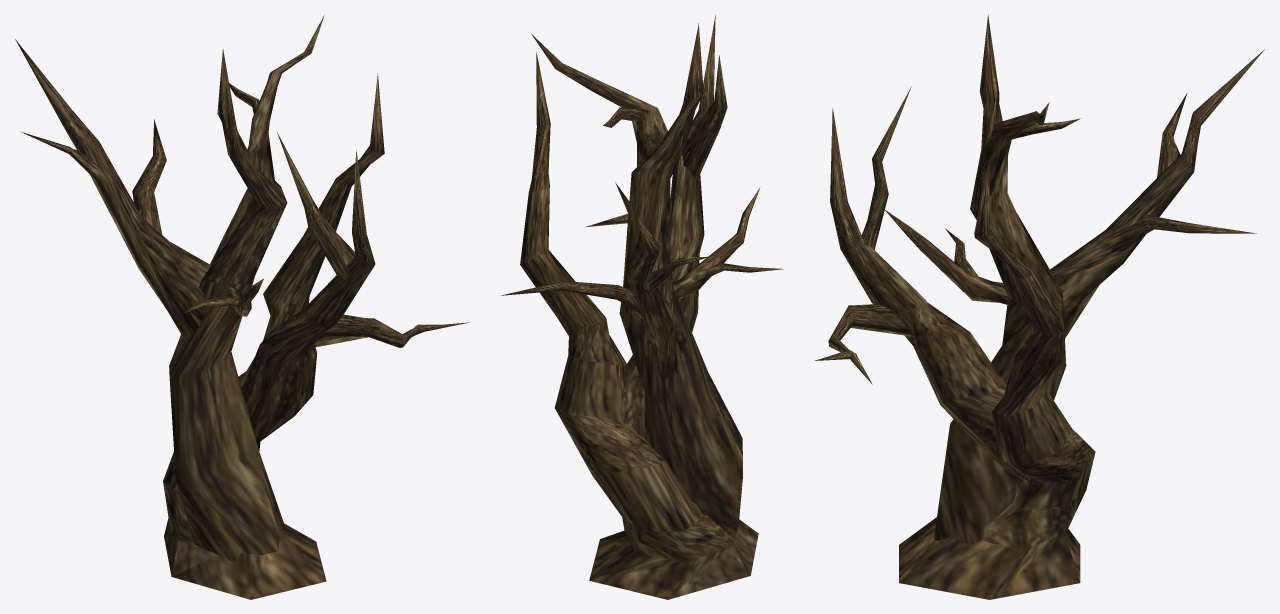
3 renders of one model, left to right at view 1: azimuth 30°, elevation 25°; view 2: azimuth 150°, elevation 25°; view 3: azimuth 270°, elevation 25°, orthographic. The views are drawn at different scales.
Visible parts, largest first — view 1: a28; view 2: a28; view 3: a28.
Boxes of the visible parts, bbox=[...] form: a28: bbox=[15, 15, 468, 599]; a28: bbox=[501, 15, 783, 599]; a28: bbox=[815, 14, 1264, 599].
Bounding box in the file's own units: 786 × 1425 × 1084.
Materials: 1 (1 with a texture image).
